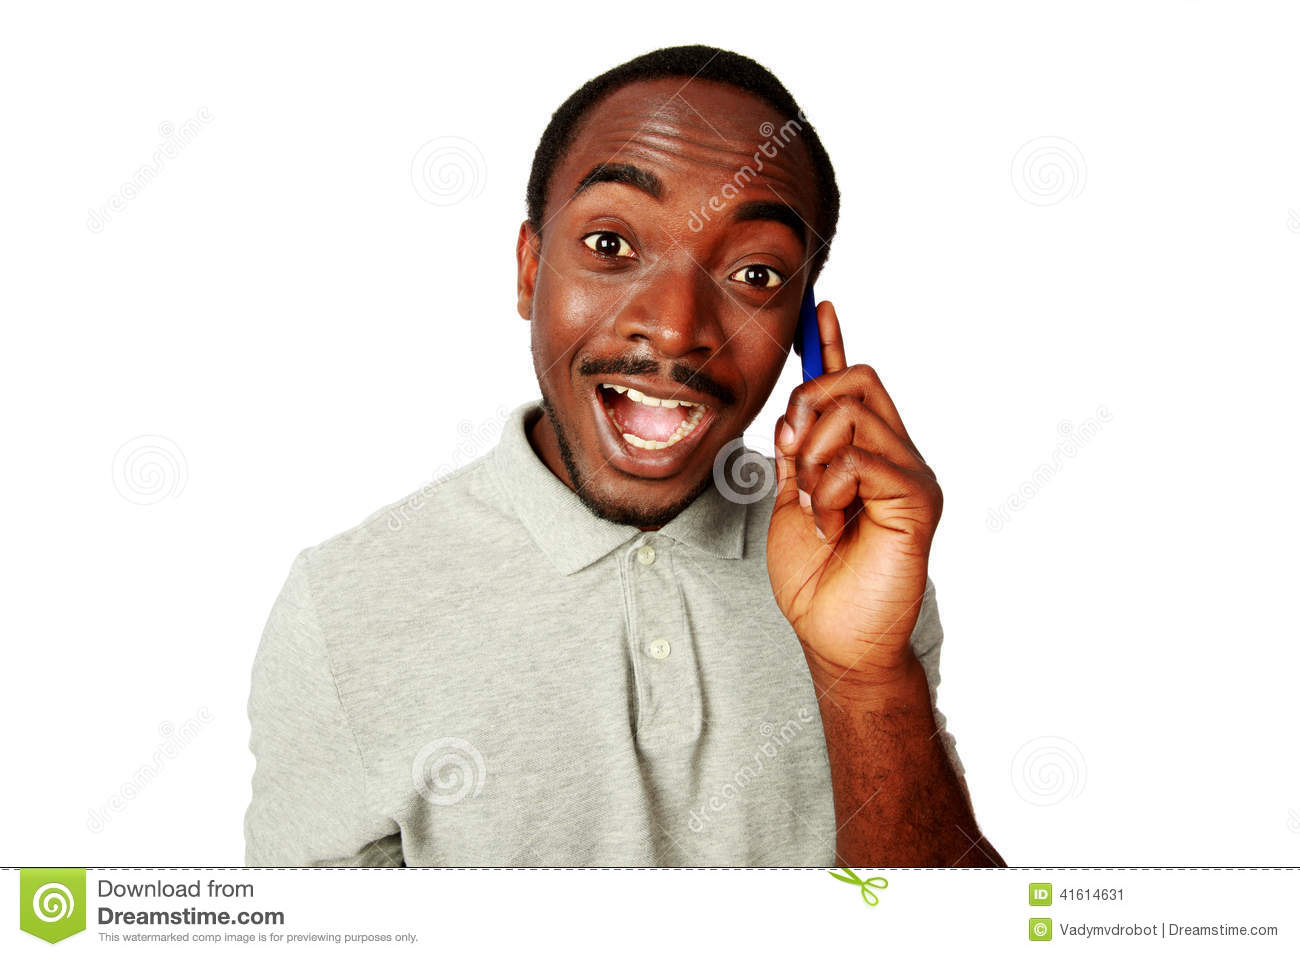phone: (780, 257, 834, 476)
talk: (546, 145, 943, 690)
